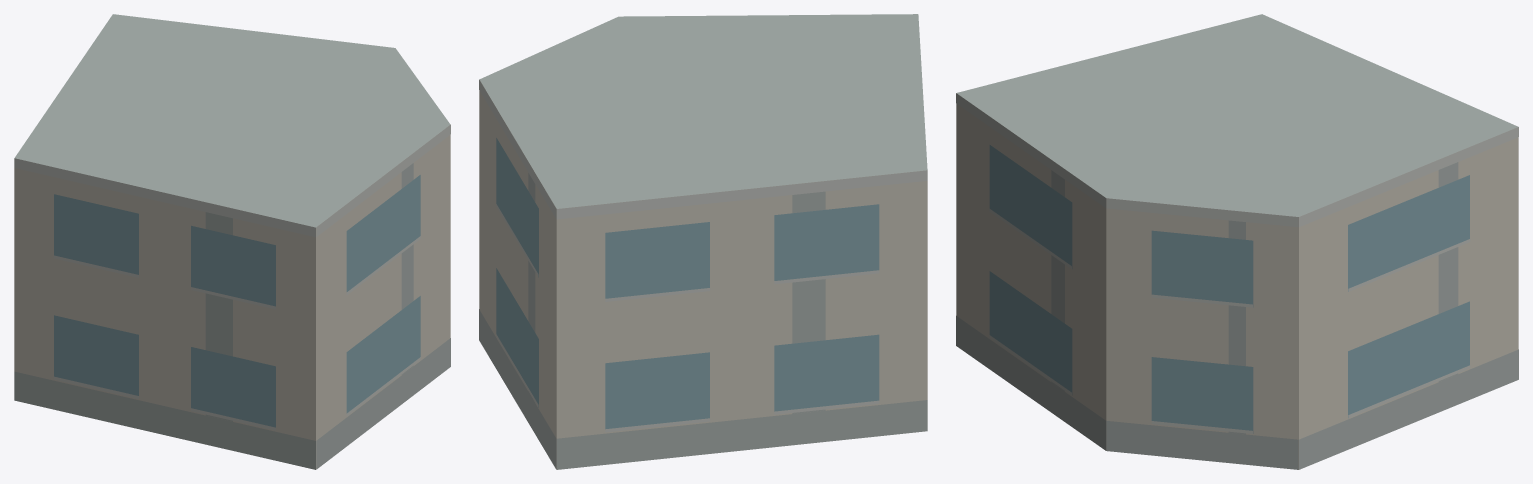
The model's file is residential-529942b5-f8cd-4cde-9669-70f3a07ae007.glb.
3 renders of one model, left to right at view 1: azimuth 30°, elevation 25°; view 2: azimuth 150°, elevation 25°; view 3: azimuth 270°, elevation 25°, orthographic. The views are drawn at different scales.
Visible parts, largest first — view 1: residential-529942b5-f8cd-4cde-9669-70f3a07ae007.tmp; view 2: residential-529942b5-f8cd-4cde-9669-70f3a07ae007.tmp; view 3: residential-529942b5-f8cd-4cde-9669-70f3a07ae007.tmp.
Part boxes in pixels (<box>): residential-529942b5-f8cd-4cde-9669-70f3a07ae007.tmp: <box>14,14,450,469</box>; residential-529942b5-f8cd-4cde-9669-70f3a07ae007.tmp: <box>479,14,927,469</box>; residential-529942b5-f8cd-4cde-9669-70f3a07ae007.tmp: <box>956,14,1518,469</box>.
Size of the model in its own units: 10.35 by 6 by 12.11.
